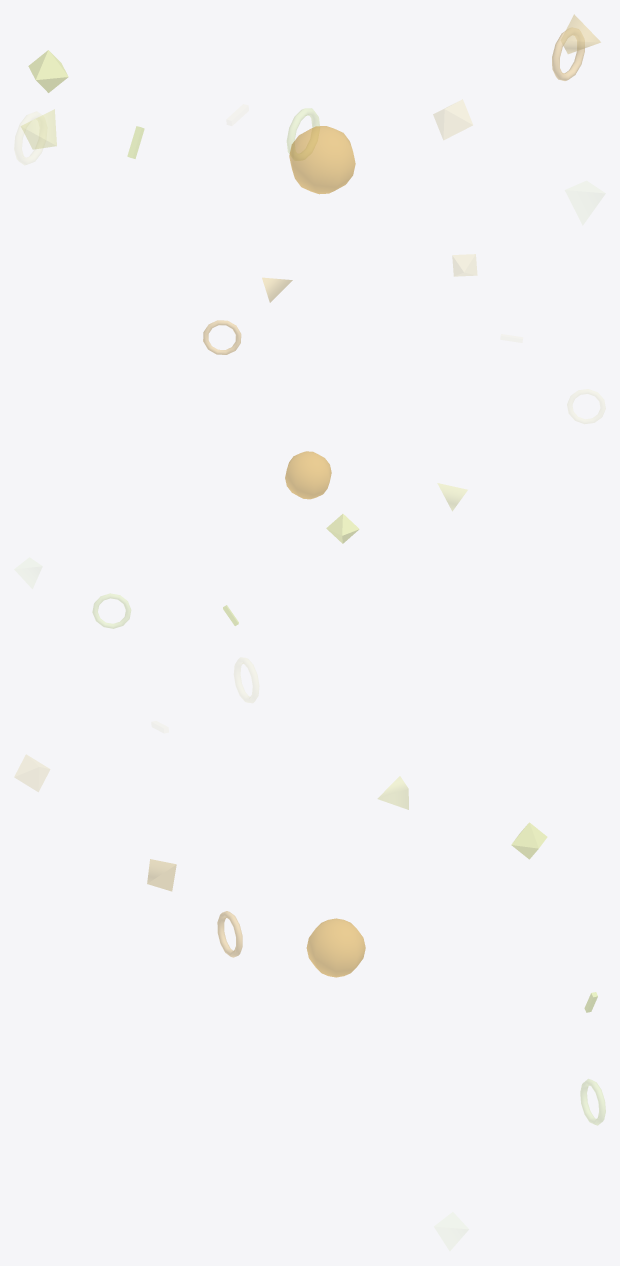
The model's file is sigil.glb.
3 views of the same model, one above another, from view 1: azimuth 30°, elevation 25°; view 2: azimuth 150°, elevation 25°; view 3: azimuth 270°, elevation 25° (orthographic). The views are drawn at different scales.
Bounding box in the file's own units: 1.02 × 0.5395 × 0.8611.
